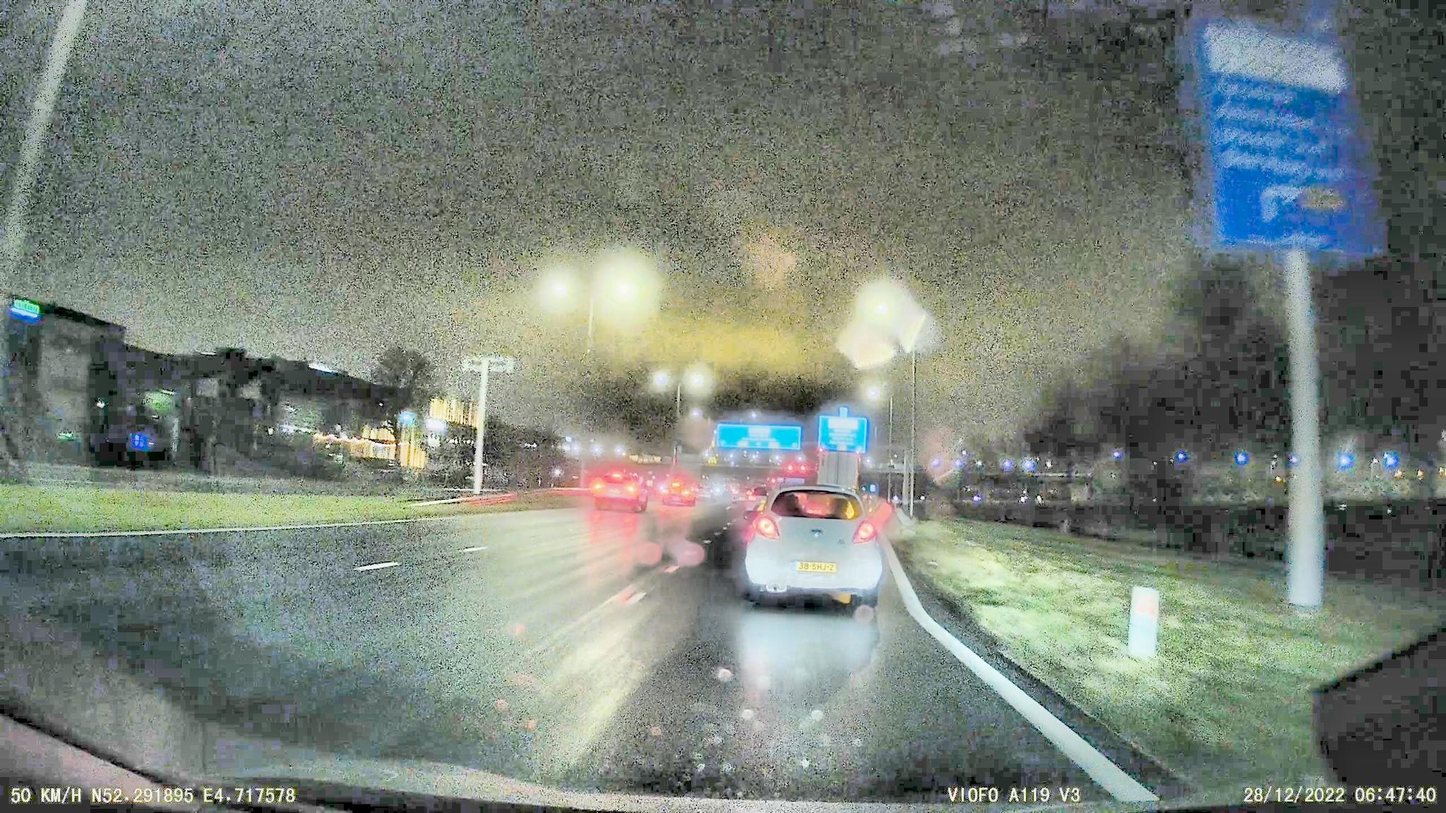Roads: (0, 512, 1122, 813)
